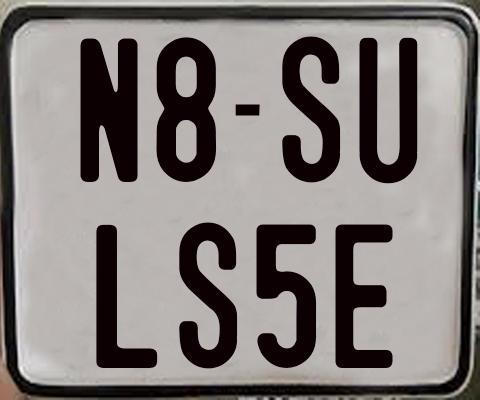5: (253, 222, 319, 366)
8: (153, 35, 215, 181)
E: (333, 223, 397, 369)
L: (95, 223, 156, 369)
N: (78, 36, 141, 186)
S: (178, 221, 241, 374), (280, 34, 338, 181)
U: (357, 37, 415, 183)
